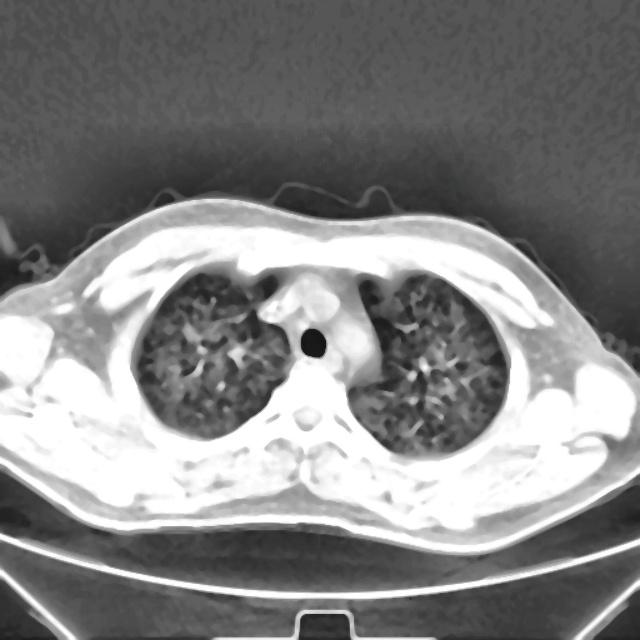covid: (0, 189, 639, 557)
